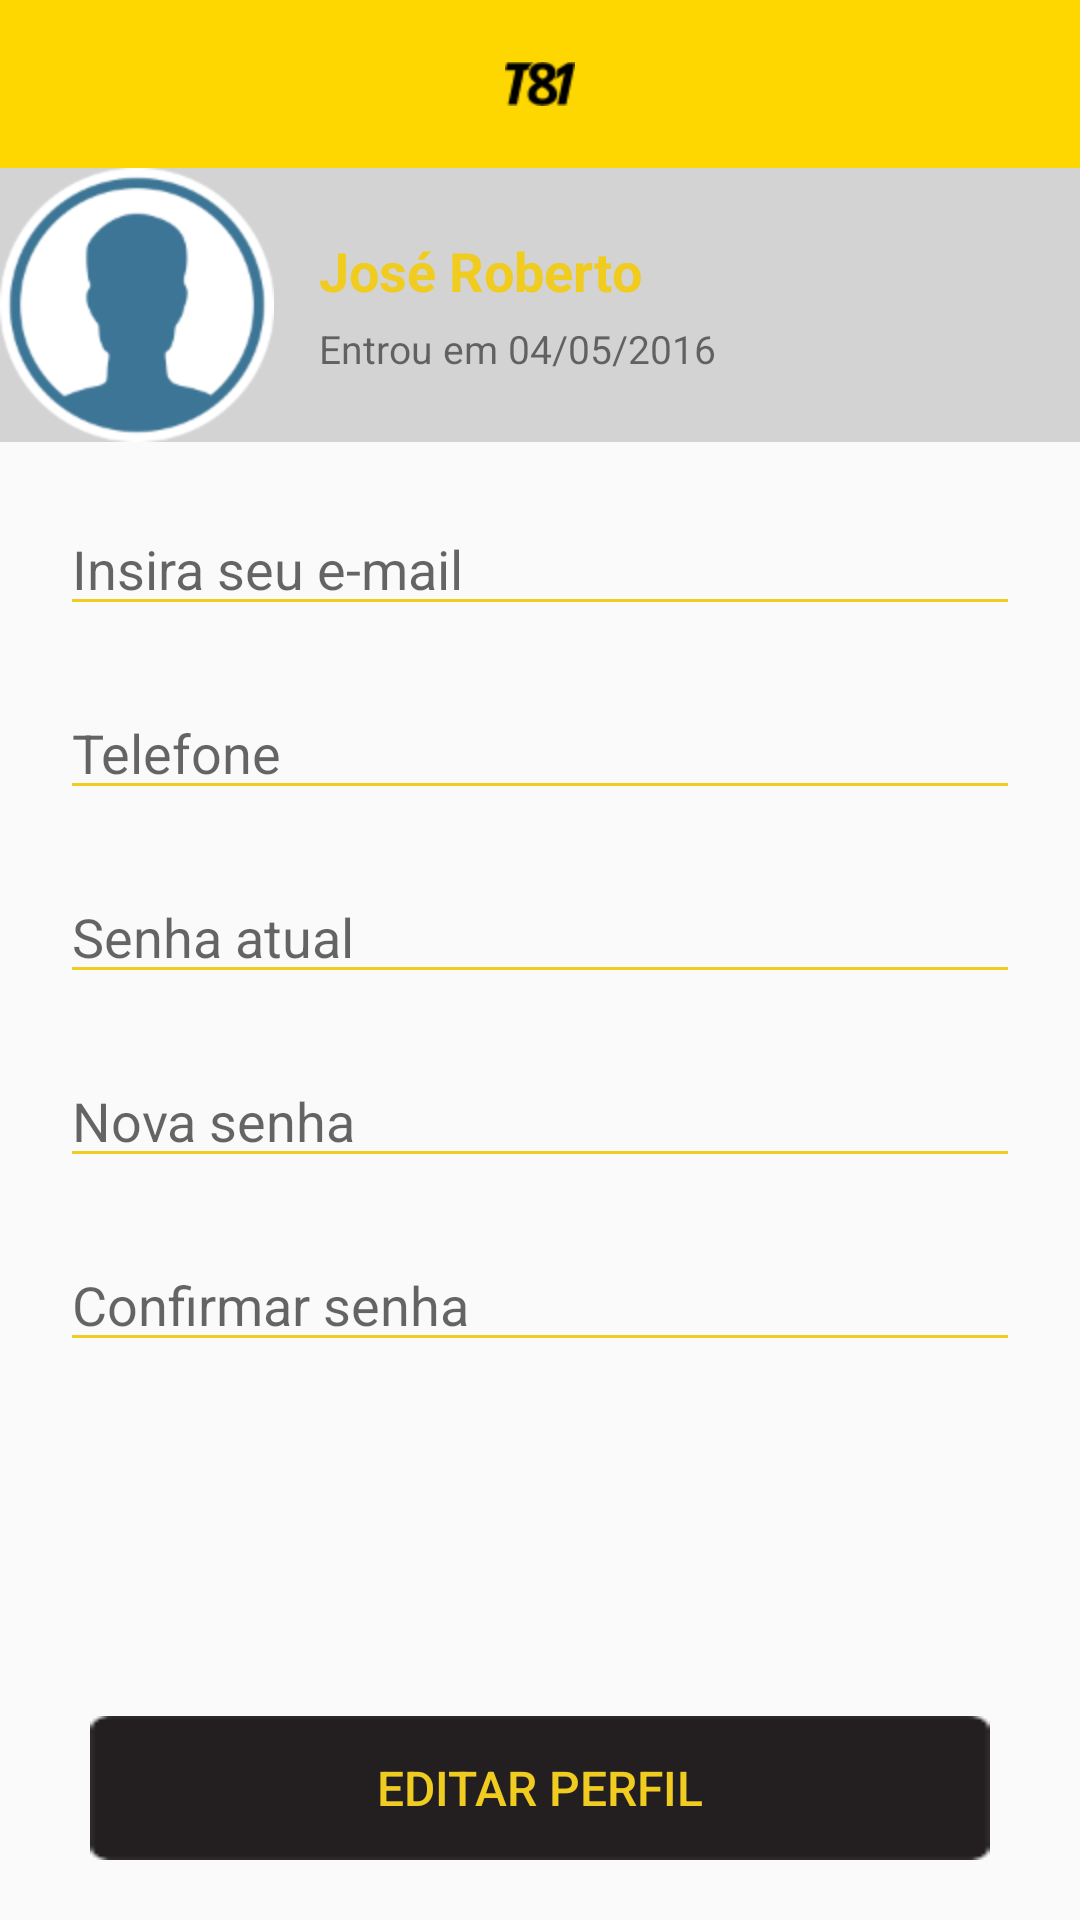

Icons on this 1080*1920 Android screen, each with the point to tap as point (x, y):
perfil: point (137, 305)
